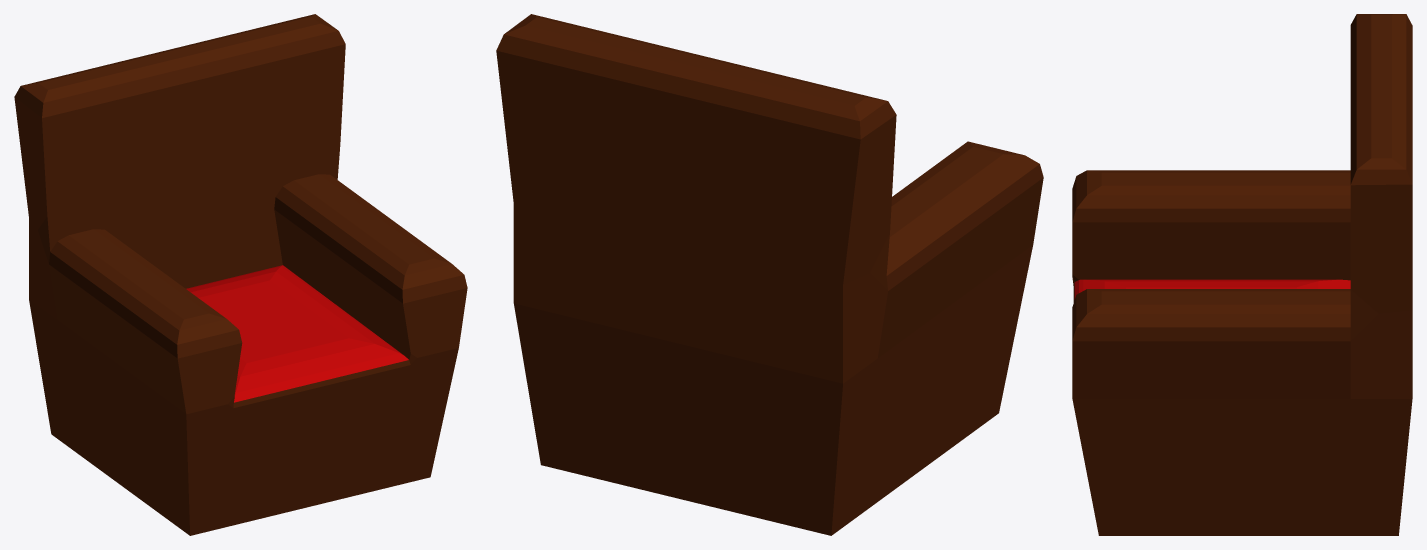
The model's file is armchair.fbx.
3 renders of one model, left to right at view 1: azimuth 30°, elevation 25°; view 2: azimuth 150°, elevation 25°; view 3: azimuth 270°, elevation 25°, orthographic. The views are drawn at different scales.
Parts seen in each view (by area): view 1: armchair; view 2: armchair; view 3: armchair.
Part boxes in pixels (x1,y1,x2,y2): armchair: (14,14,467,535); armchair: (496,14,1043,535); armchair: (1072,14,1412,535).
Bounding box in the file's own units: 111 × 125 × 100.
